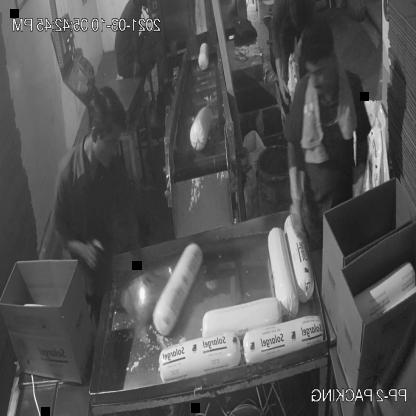glove: (281, 155, 310, 248)
no_glove: (110, 200, 168, 298), (49, 211, 107, 281)
